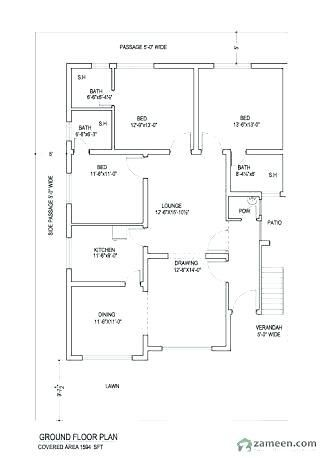door: (232, 283, 259, 313), (205, 263, 231, 284), (203, 130, 224, 155), (207, 225, 231, 246), (125, 156, 144, 182), (169, 135, 191, 156), (127, 227, 148, 245), (125, 272, 146, 290)
room: (148, 156, 223, 251), (148, 260, 224, 346), (201, 71, 278, 147), (117, 73, 187, 153), (78, 153, 149, 222), (71, 289, 145, 352), (74, 231, 144, 282), (227, 151, 282, 192), (76, 109, 114, 149), (73, 67, 113, 104)
wall: (191, 69, 200, 155), (64, 266, 72, 360), (91, 148, 170, 155), (71, 279, 126, 288), (155, 62, 213, 70), (72, 221, 146, 227), (65, 65, 73, 120), (64, 206, 76, 236), (224, 153, 231, 202), (246, 147, 284, 156), (225, 281, 230, 349), (141, 178, 147, 225), (259, 240, 263, 310), (109, 107, 115, 152), (73, 106, 114, 112), (253, 62, 286, 69), (142, 248, 147, 291), (67, 61, 93, 69), (206, 251, 228, 259), (229, 190, 264, 195), (68, 141, 74, 170), (148, 251, 172, 258), (257, 237, 271, 248), (142, 334, 147, 362), (223, 202, 230, 222), (132, 353, 148, 361), (213, 344, 231, 351), (110, 67, 115, 88), (228, 217, 242, 223), (148, 345, 162, 349)
window: (84, 355, 129, 362), (217, 61, 250, 70), (119, 63, 155, 71), (64, 237, 72, 267), (166, 347, 210, 351), (65, 175, 72, 199), (63, 121, 72, 139), (265, 191, 281, 198), (93, 61, 107, 68)
